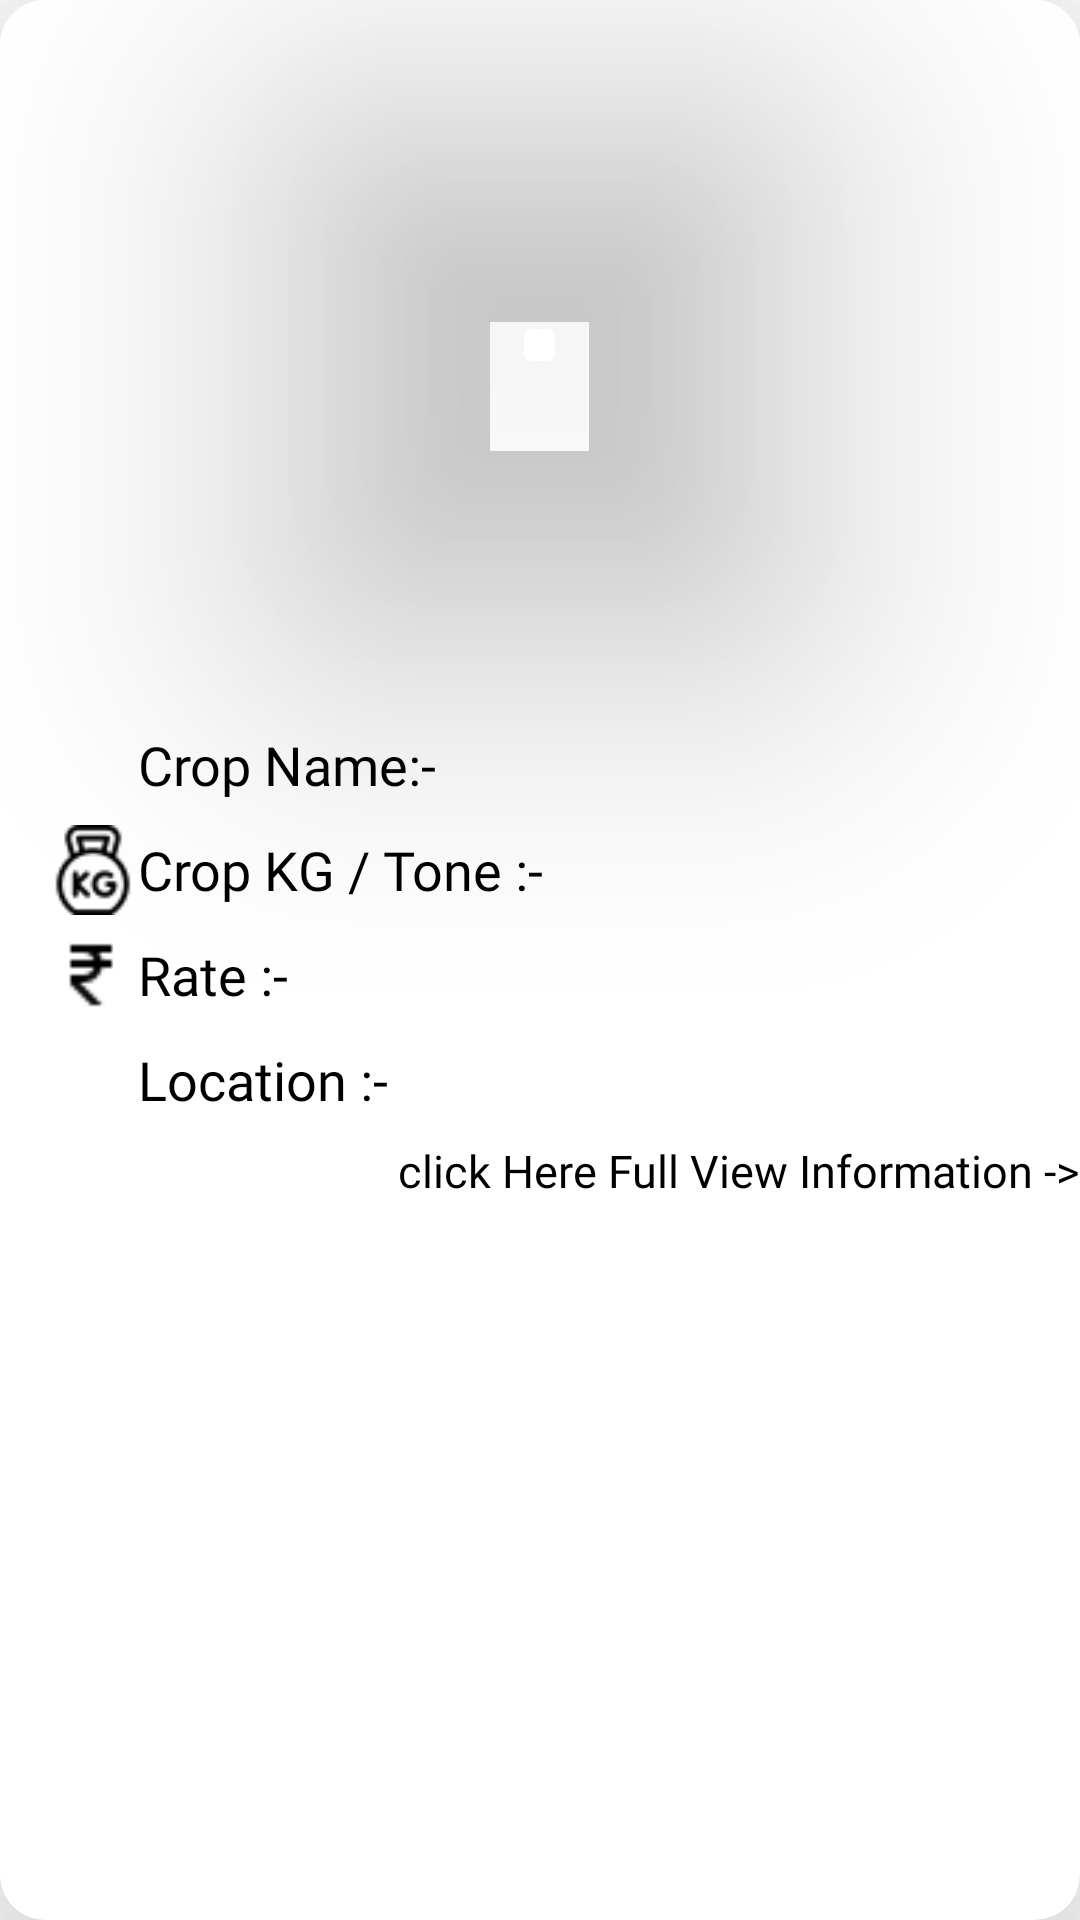

Named icons in this screenshot (1080*1920) and their bounding boxes, {"left": x1, "top": y1, "right": x2, "bottom": y2}:
rupee: {"left": 69, "top": 943, "right": 113, "bottom": 1007}
